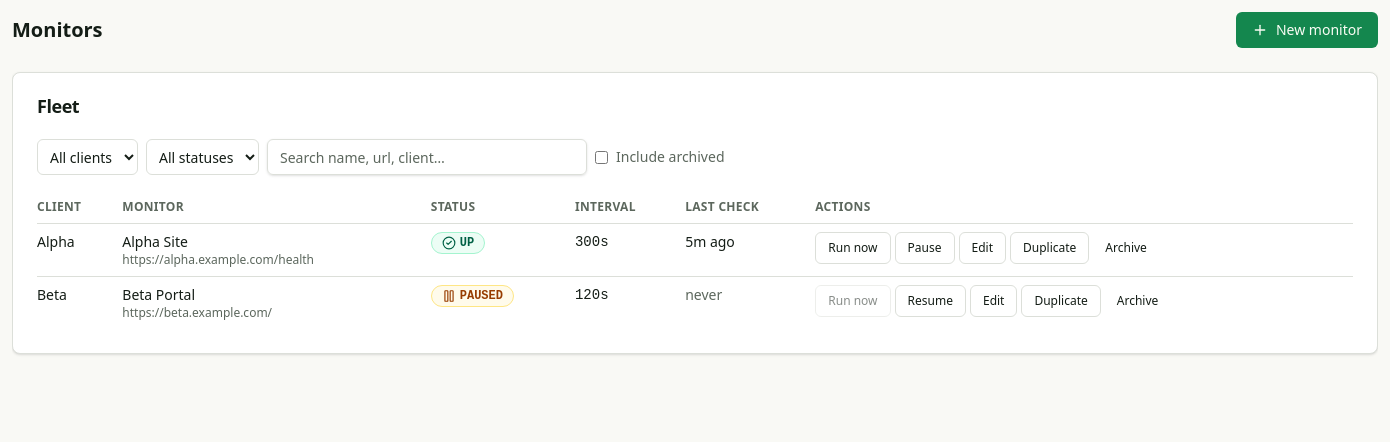
Test: MonitorsPage actions › pause PATCHes enabled:false with §23 semantics in the notice
Click the button "Pause" at (925, 248), box [895,232,954,264]
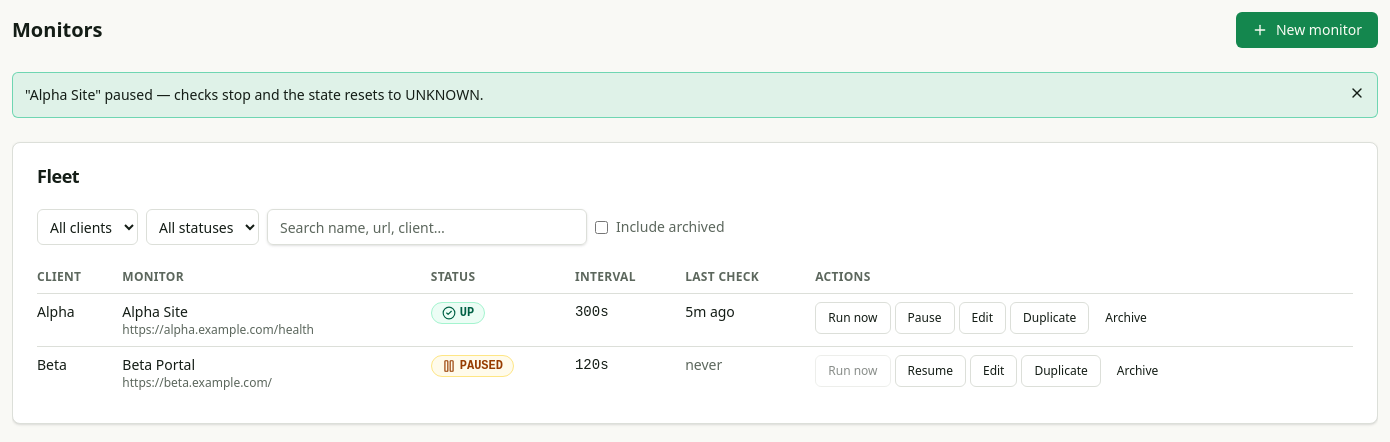
expect the text "paused — checks stop and the state resets to UNKNOWN" is shown: met, box [25,85,484,104]
